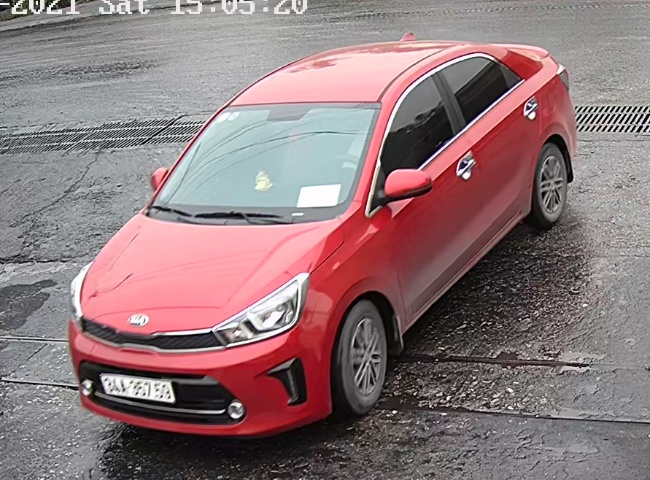vehicle plate: (92, 364, 180, 410)
